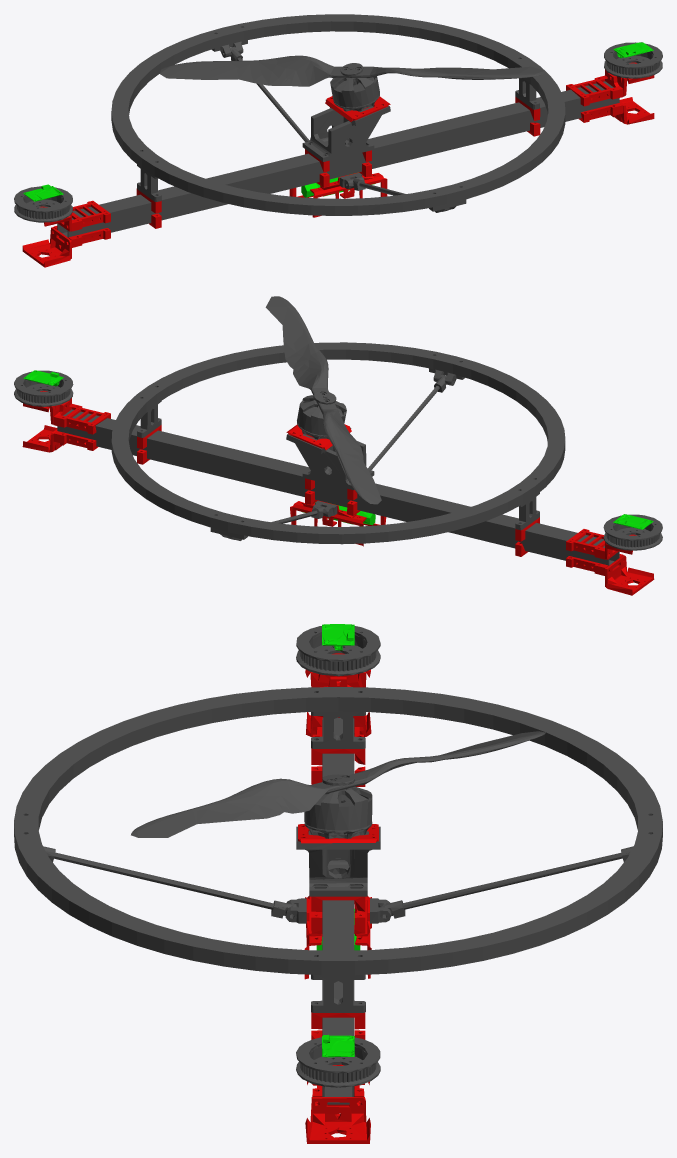
File: tilt_10deg_15inch_link2.dae
3 views of the same model, one above another, from view 1: azimuth 30°, elevation 25°; view 2: azimuth 150°, elevation 25°; view 3: azimuth 270°, elevation 25° (orthographic). The views are drawn at different scales.
Parts seen in each view (by area): view 1: link2_tilt_15inch_black, link2_tilt_15inch_red, link2_green_part; view 2: link2_tilt_15inch_black, link2_tilt_15inch_red, link2_green_part; view 3: link2_tilt_15inch_black, link2_tilt_15inch_red, link2_green_part.
Boxes of the visible parts, x1=… form: link2_tilt_15inch_black: x1=14, y1=14, x2=662, y2=237; link2_tilt_15inch_red: x1=22, y1=62, x2=654, y2=267; link2_green_part: x1=23, y1=42, x2=653, y2=201; link2_tilt_15inch_black: x1=14, y1=296, x2=662, y2=567; link2_tilt_15inch_red: x1=22, y1=390, x2=654, y2=595; link2_green_part: x1=23, y1=370, x2=653, y2=529; link2_tilt_15inch_black: x1=14, y1=625, x2=662, y2=1104; link2_tilt_15inch_red: x1=298, y1=653, x2=378, y2=1143; link2_green_part: x1=316, y1=624, x2=360, y2=1057.
Bounding box in the file's own units: 0.6522 × 0.4 × 0.1437.
